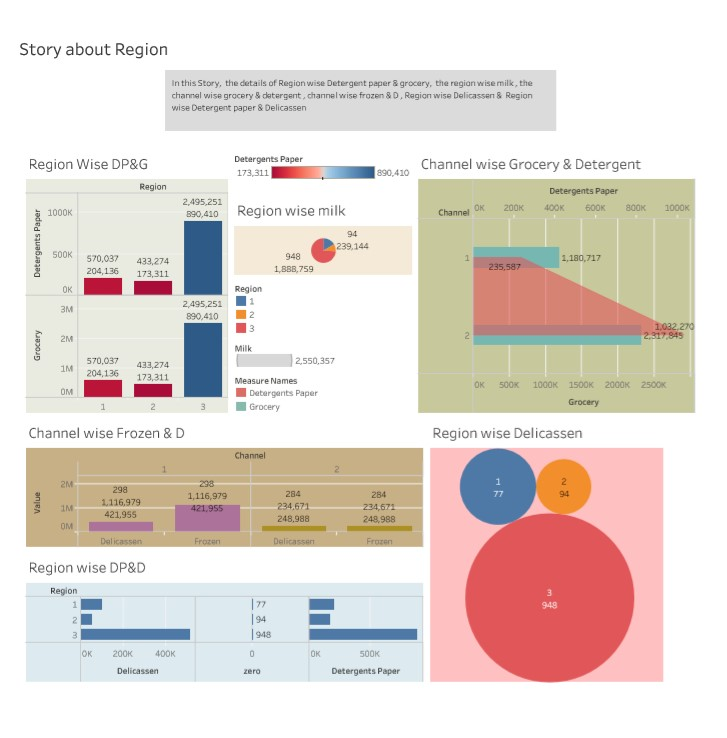

What the dashboard file says about the page in this screenshot:
{"tool":"tableau","page":{"name":"Region Datas","canvas":[1000,800],"ordinal":1},"visuals":[{"type":"worksheet","title":"Region Wise DP&G","mark":"Automatic","rows":["Detergents_Paper","Grocery"],"cols":["Region"],"box":[8,8,304,392]},{"type":"legend","title":"Region Wise DP&G","param":"[federated.10gtugz0cay4mu1c8y5fw058jczt].[sum:Detergents_Paper:qk]","box":[312,8,268,65]},{"type":"worksheet","title":"Channel wise Grocery & Detergent","mark":"Automatic","rows":["Channel"],"cols":["Grocery","Detergents_Paper"],"box":[580,8,412,392]},{"type":"worksheet","title":"Region wise milk","mark":"Pie","box":[312,73,268,129]},{"type":"legend","title":"Region wise milk","param":"[federated.10gtugz0cay4mu1c8y5fw058jczt].[none:Region:ok]","box":[312,202,268,86]},{"type":"legend","title":"Region wise milk","param":"[federated.10gtugz0cay4mu1c8y5fw058jczt].[sum:Milk:qk]","box":[312,288,268,46]},{"type":"legend","title":"Channel wise Grocery & Detergent","param":"[federated.10gtugz0cay4mu1c8y5fw058jczt].[:Measure Names]","box":[312,334,268,66]},{"type":"worksheet","title":"Channel wise Frozen & D","mark":"Automatic","cols":["Channel"],"box":[8,400,589,196]},{"type":"worksheet","title":"Region wise Delicassen","mark":"Circle","box":[597,400,395,392]},{"type":"worksheet","title":"Region wise DP&D","mark":"Automatic","rows":["Region"],"cols":["Delicassen","Calculation_570831264798572544","Detergents_Paper"],"box":[8,596,589,196]}]}

Visuals, with their boxes on the page's 1000x800 design canvas (x1, y1, x2, y2). These are canvas units, not pixel positions in the 727x738 screenshot, which may show the page scaled, cropped or inside an application window:
"Region Wise DP&G" worksheet: region(8, 8, 312, 400)
"Region Wise DP&G" legend: region(312, 8, 580, 73)
"Channel wise Grocery & Detergent" worksheet: region(580, 8, 992, 400)
"Region wise milk" worksheet (Pie marks): region(312, 73, 580, 202)
"Region wise milk" legend: region(312, 202, 580, 288)
"Region wise milk" legend: region(312, 288, 580, 334)
"Channel wise Grocery & Detergent" legend: region(312, 334, 580, 400)
"Channel wise Frozen & D" worksheet: region(8, 400, 597, 596)
"Region wise Delicassen" worksheet (Circle marks): region(597, 400, 992, 792)
"Region wise DP&D" worksheet: region(8, 596, 597, 792)
